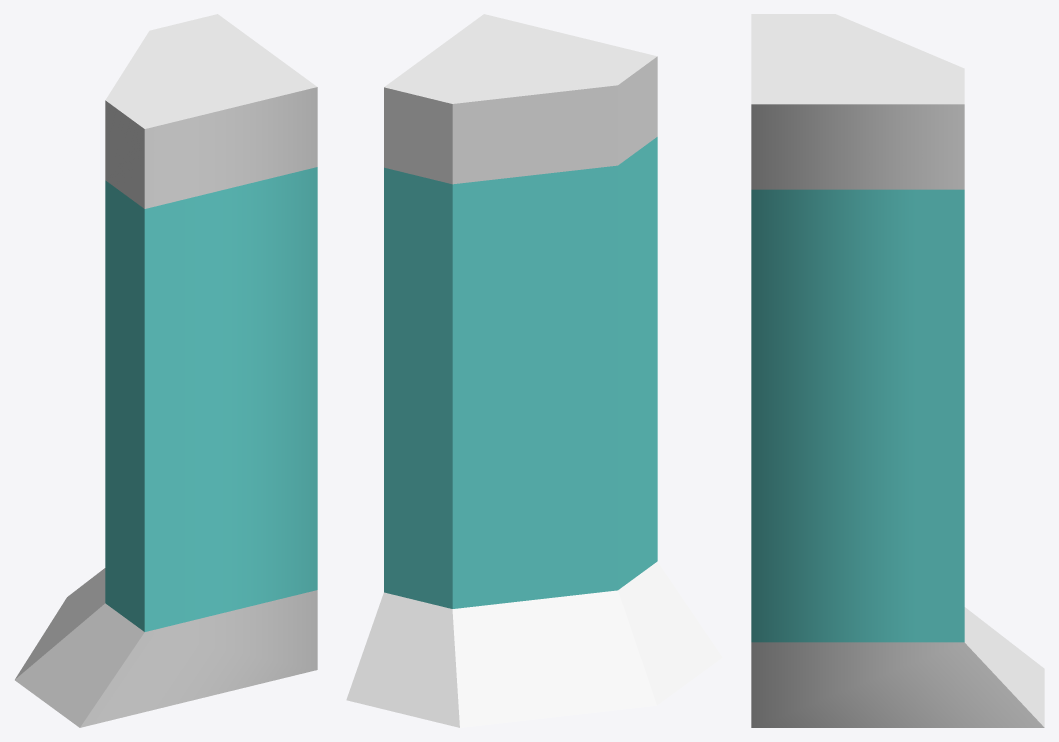
File: WallOpenTurnLow.fbx
3 views of the same model, side by side, from view 1: azimuth 30°, elevation 25°; view 2: azimuth 150°, elevation 25°; view 3: azimuth 270°, elevation 25° (orthographic). The views are drawn at different scales.
Parts seen in each view (by area): view 1: OpenTurnLow; view 2: OpenTurnLow; view 3: OpenTurnLow.
Boxes of the visible parts, x1,y1,x2,y2 form: OpenTurnLow: [15, 14, 317, 727]; OpenTurnLow: [346, 14, 722, 727]; OpenTurnLow: [751, 14, 1044, 727].
Size of the model in its own units: 54.17 by 127 by 54.17.
